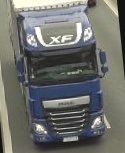truck: (4, 0, 116, 153)
